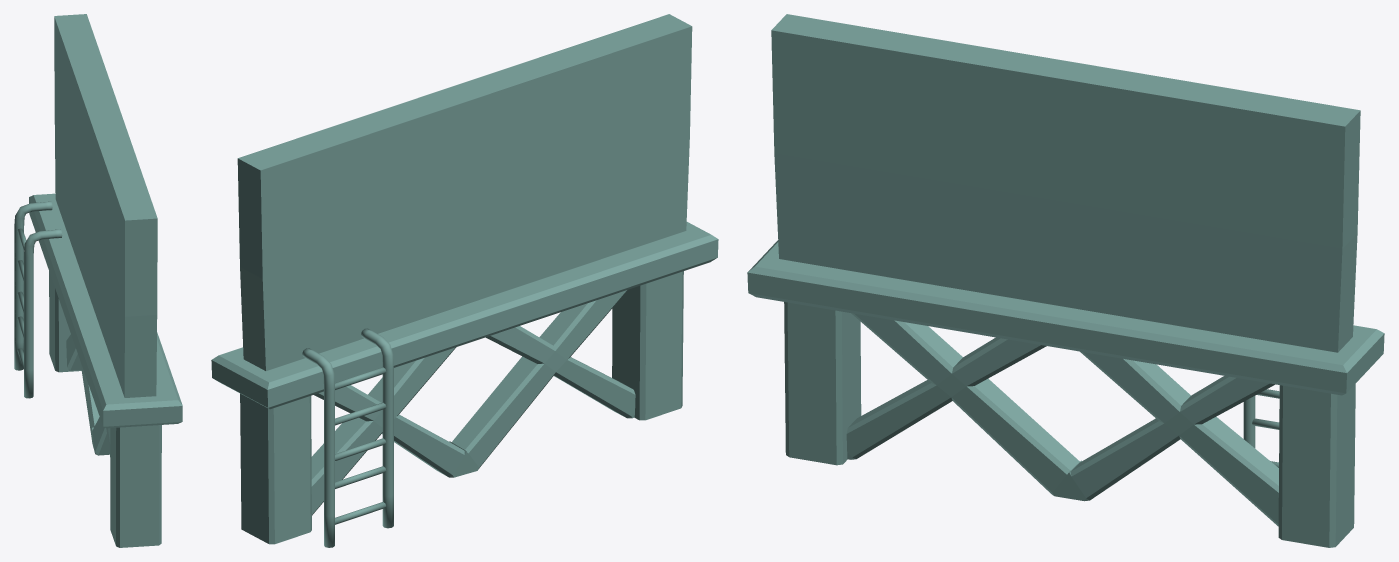
The model's file is billboard.fbx.
3 renders of one model, left to right at view 1: azimuth 30°, elevation 25°; view 2: azimuth 150°, elevation 25°; view 3: azimuth 270°, elevation 25°, orthographic. The views are drawn at different scales.
Parts seen in each view (by area): view 1: billboard; view 2: billboard; view 3: billboard.
Part boxes in pixels (<box>): billboard: <box>14,14,182,547</box>; billboard: <box>211,14,718,547</box>; billboard: <box>747,14,1384,547</box>.
Size of the model in its own units: 486 by 680 by 931.
